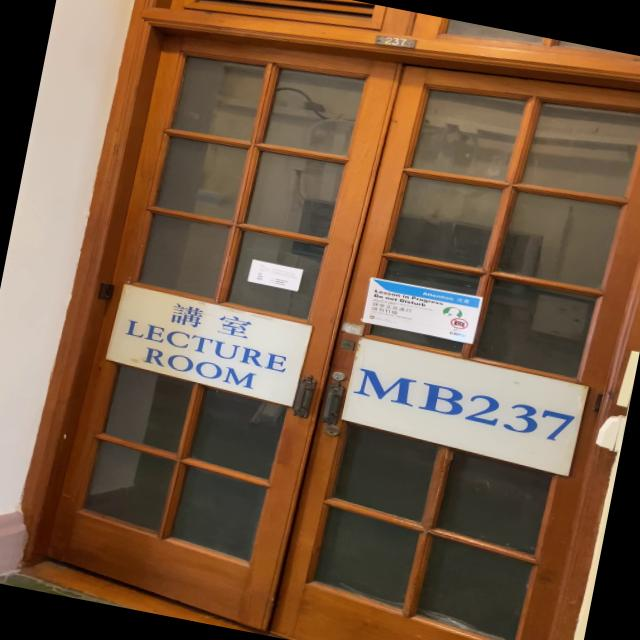room237: (374, 34, 417, 50)
room237Window: (340, 338, 589, 476)
